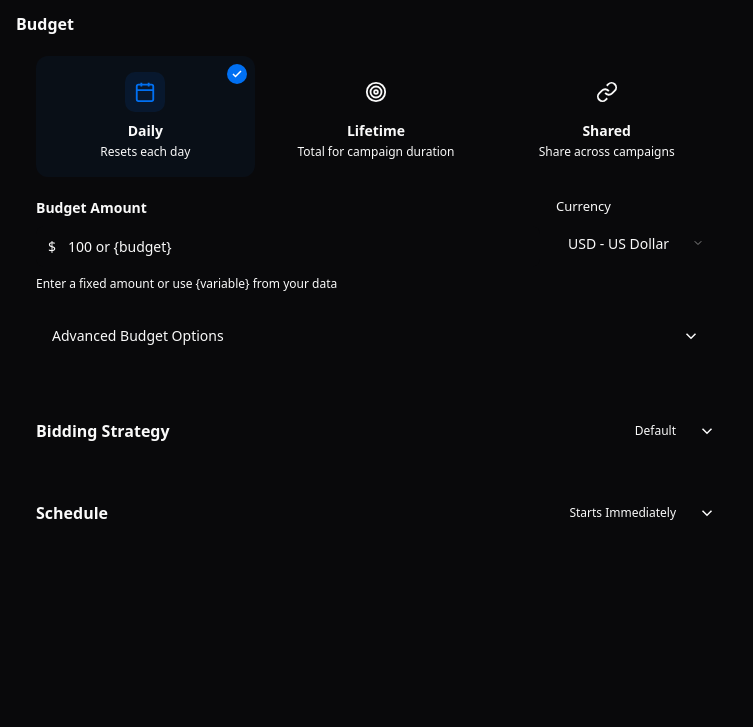
Test: BudgetBiddingConfig › Section Expansion/Collapse › expands bidding section when header is clicked
The width and height of the screenshot is (753, 727).
Click the button "Bidding Strategy Default".
click(103, 431)  # box [16,402,736,460]
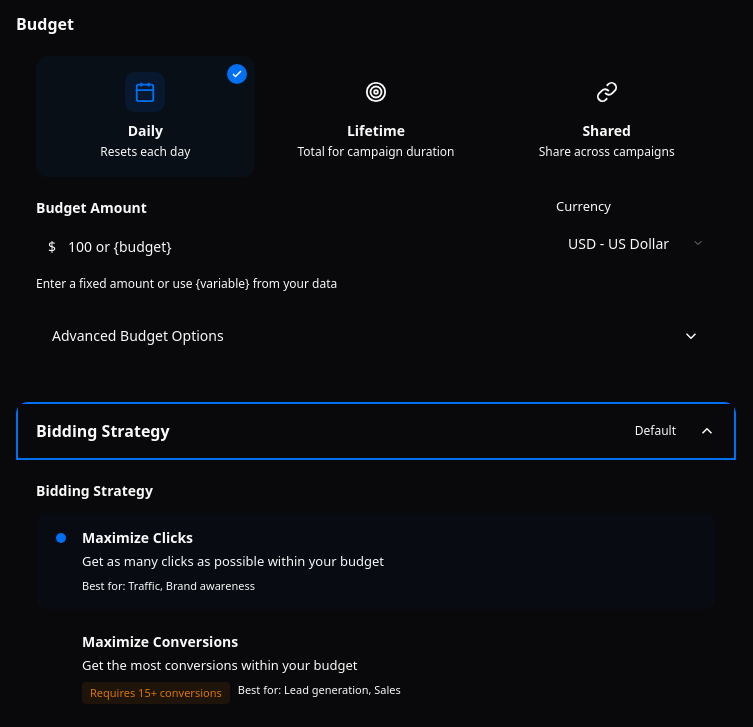
Expected: the radio button with test id "strategy-maximize_clicks" is shown, [36,513,716,609]
